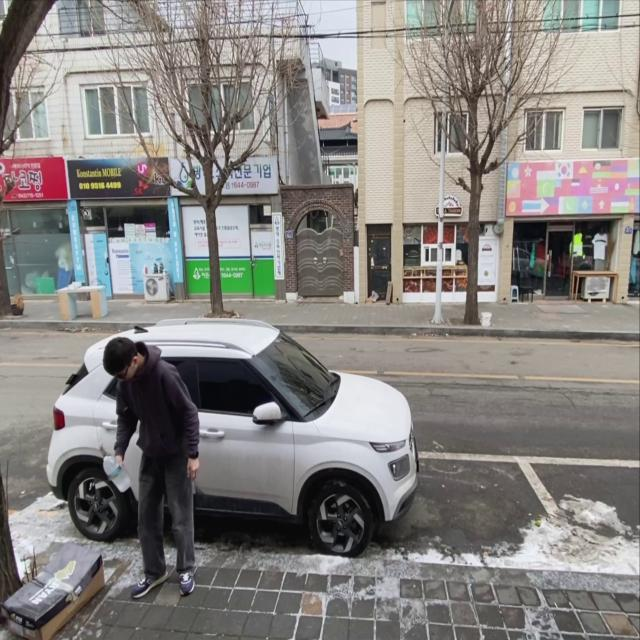bare_hand: (185, 454, 204, 484)
